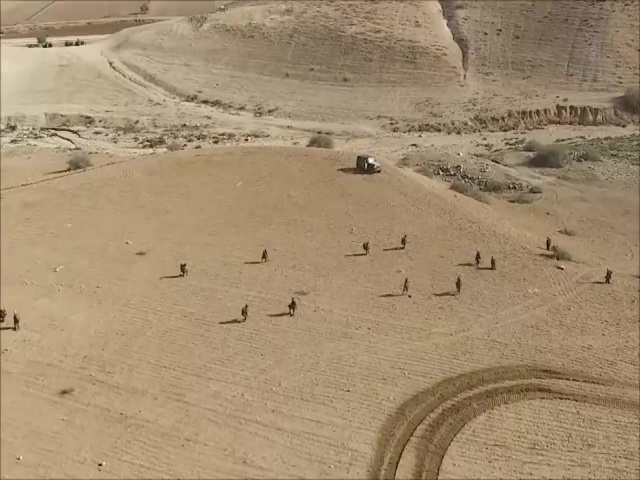person: (286, 295, 298, 316), (11, 309, 21, 332), (177, 262, 190, 278), (473, 249, 483, 268), (240, 303, 249, 324), (487, 255, 498, 272), (401, 275, 410, 294), (362, 240, 371, 257), (453, 274, 462, 291), (260, 248, 270, 263), (400, 233, 408, 251), (604, 267, 612, 284), (544, 236, 552, 252)
